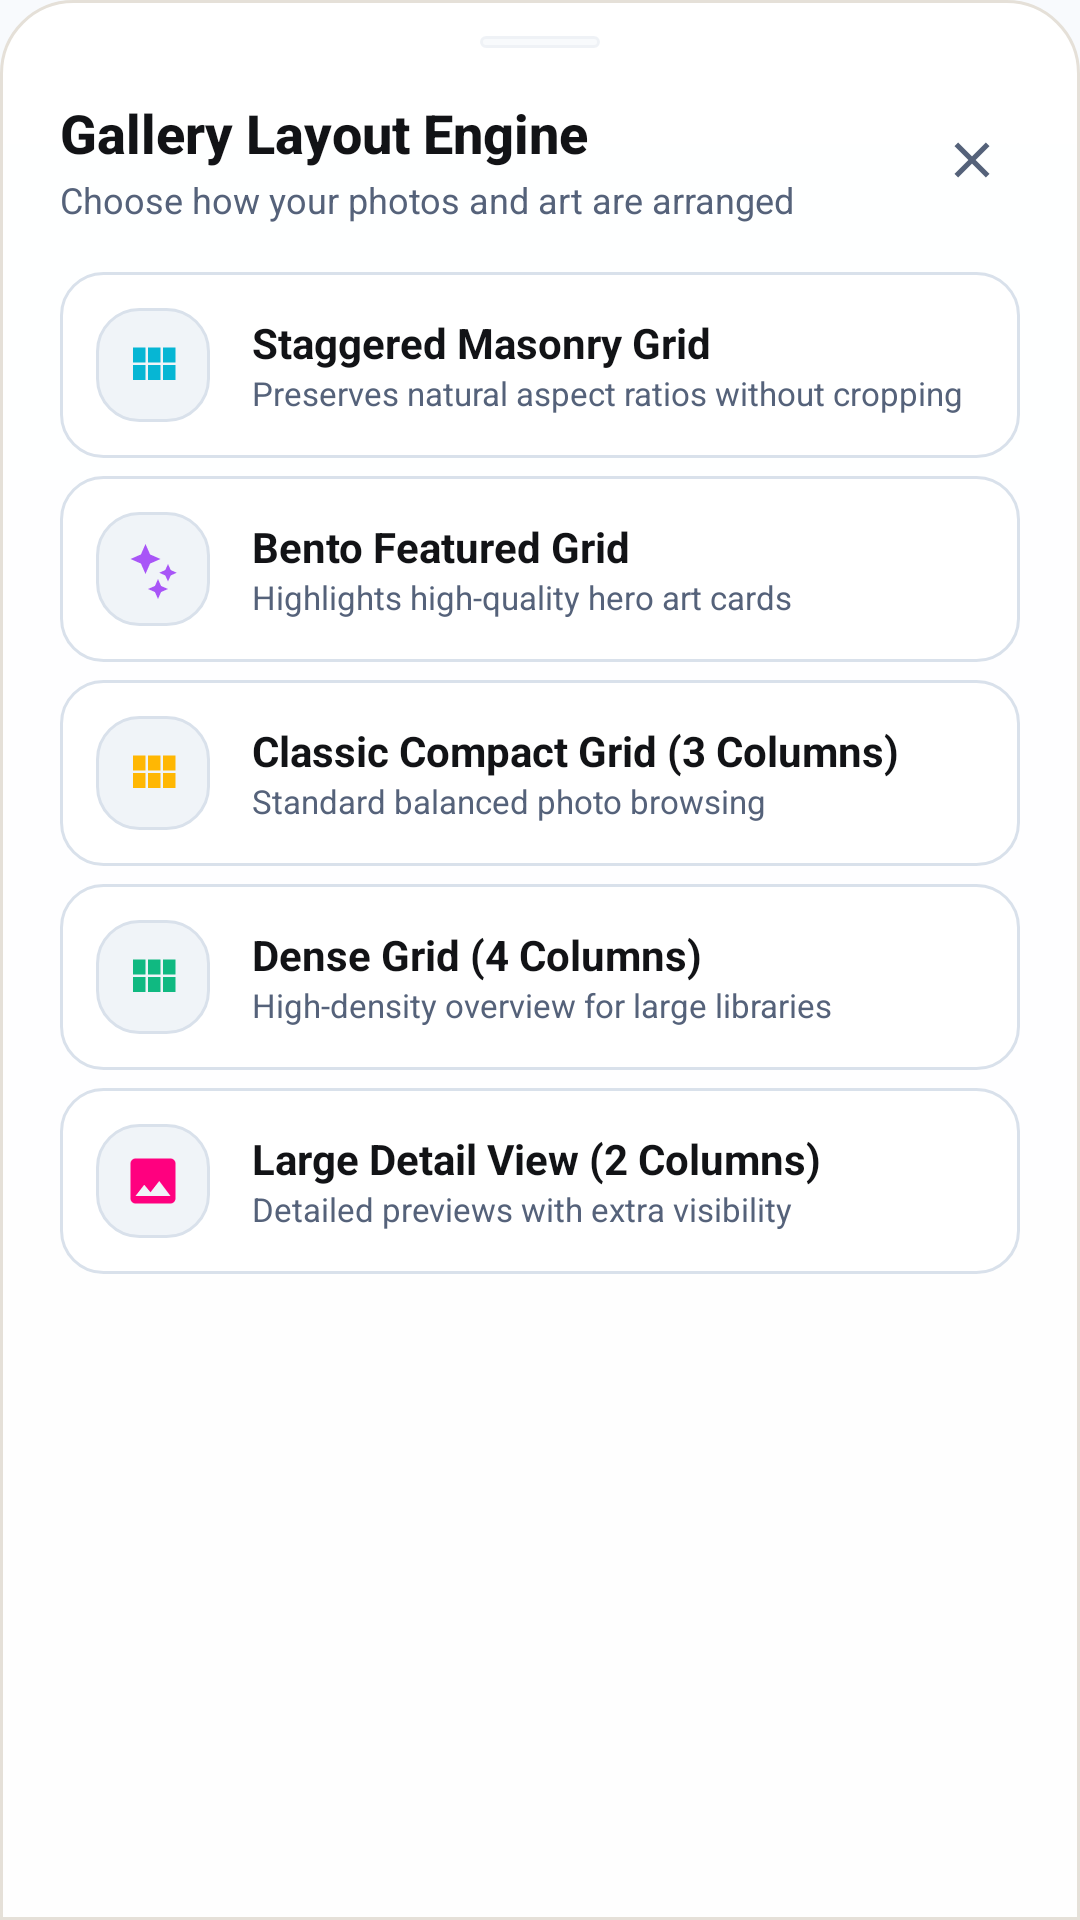

Icon click points for this 1080x1920 phone screenshot, format (x=x, y=y):
Close: (x=972, y=160)
